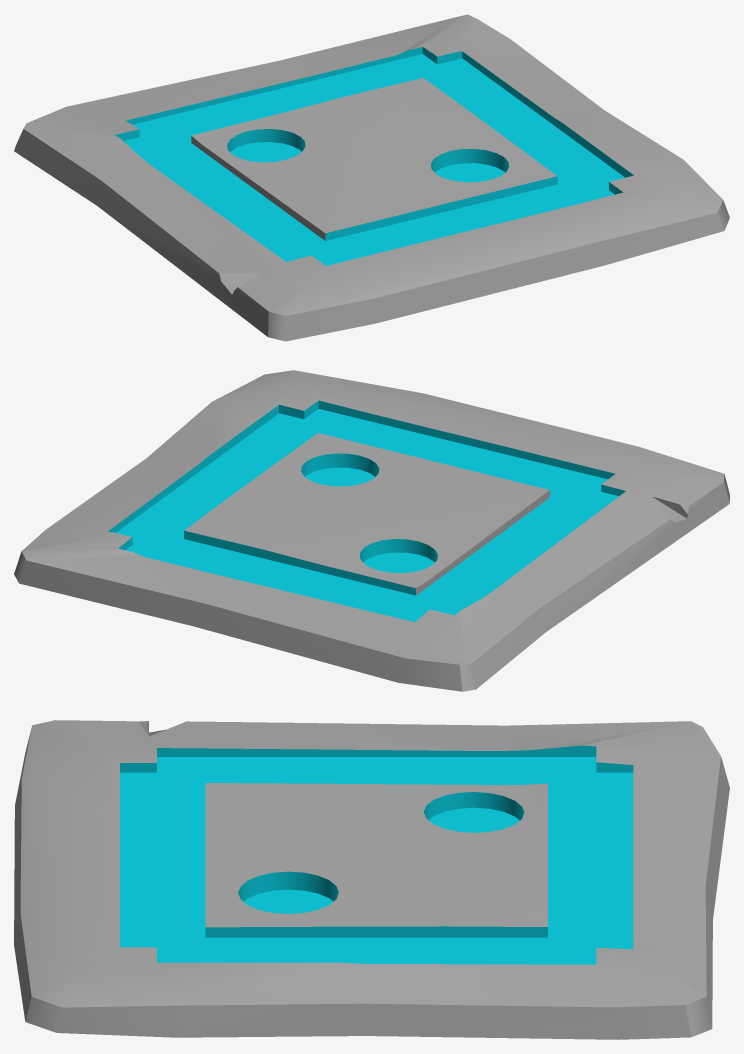
File: dalle22.fbx
The picture shows the model from 3 angles, top to bottom: view 1: azimuth 30°, elevation 25°; view 2: azimuth 150°, elevation 25°; view 3: azimuth 270°, elevation 25°; orthographic projection. The views are drawn at different scales.
Visible parts, largest first — view 1: pCube4; view 2: pCube4; view 3: pCube4.
Part boxes in pixels (x1,y1,x2,y2): pCube4: (14,14,729,341); pCube4: (14,370,729,691); pCube4: (14,720,729,1039).
Size of the model in its own units: 6.99 by 0.4395 by 7.18.
